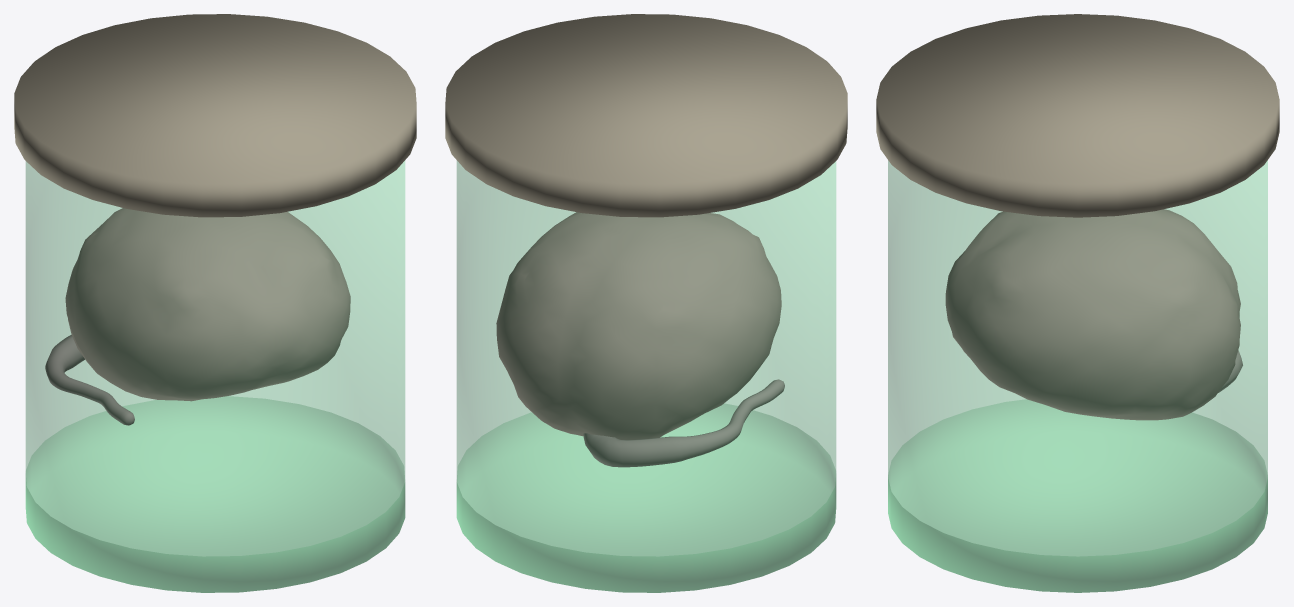
The model's file is Brain.glb.
3 views of the same model, side by side, from view 1: azimuth 30°, elevation 25°; view 2: azimuth 150°, elevation 25°; view 3: azimuth 270°, elevation 25° (orthographic).
Visible parts, largest first — view 1: Cylinder, Cylinder.001, BrainLoPoly, Plane; view 2: Cylinder, Cylinder.001, BrainLoPoly, Plane; view 3: Cylinder, Cylinder.001, BrainLoPoly.
Part boxes in pixels (x1,y1,x2,y2): Cylinder: [25, 161, 405, 592]; Cylinder.001: [14, 14, 416, 217]; BrainLoPoly: [65, 208, 350, 401]; Plane: [45, 335, 134, 425]; Cylinder: [456, 161, 836, 592]; Cylinder.001: [445, 14, 847, 217]; BrainLoPoly: [496, 212, 781, 440]; Plane: [583, 379, 784, 467]; Cylinder: [888, 160, 1267, 592]; Cylinder.001: [876, 14, 1279, 217]; BrainLoPoly: [945, 209, 1240, 420].
Bounding box in the file's own units: 2.12 × 2.4 × 2.12.
